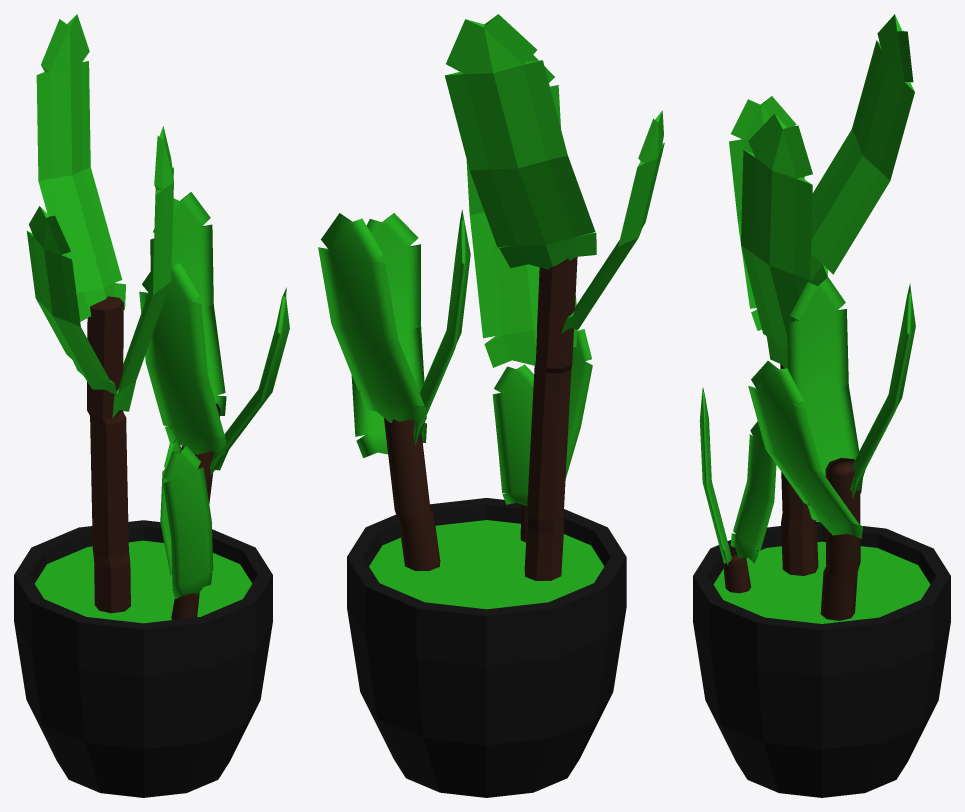
File: mesh_plant_b_01.fbx
3 views of the same model, side by side, from view 1: azimuth 30°, elevation 25°; view 2: azimuth 150°, elevation 25°; view 3: azimuth 270°, elevation 25° (orthographic). The views are drawn at different scales.
Parts seen in each view (by area): view 1: mesh_plant_b_01_part1, mesh_plant_b_01_part2, mesh_plant_b_01_part3; view 2: mesh_plant_b_01_part1, mesh_plant_b_01_part2, mesh_plant_b_01_part3; view 3: mesh_plant_b_01_part1, mesh_plant_b_01_part2, mesh_plant_b_01_part3.
Part boxes in pixels (x1=…): mesh_plant_b_01_part1: x1=14, y1=520, x2=272, y2=797; mesh_plant_b_01_part2: x1=26, y1=14, x2=173, y2=613; mesh_plant_b_01_part3: x1=139, y1=192, x2=289, y2=619; mesh_plant_b_01_part1: x1=347, y1=498, x2=626, y2=797; mesh_plant_b_01_part2: x1=444, y1=14, x2=664, y2=580; mesh_plant_b_01_part3: x1=318, y1=209, x2=592, y2=570; mesh_plant_b_01_part1: x1=693, y1=521, x2=950, y2=797; mesh_plant_b_01_part2: x1=729, y1=14, x2=914, y2=575; mesh_plant_b_01_part3: x1=699, y1=277, x2=915, y2=620.
Bounding box in the file's own units: 21.39 × 56.22 × 18.14.
